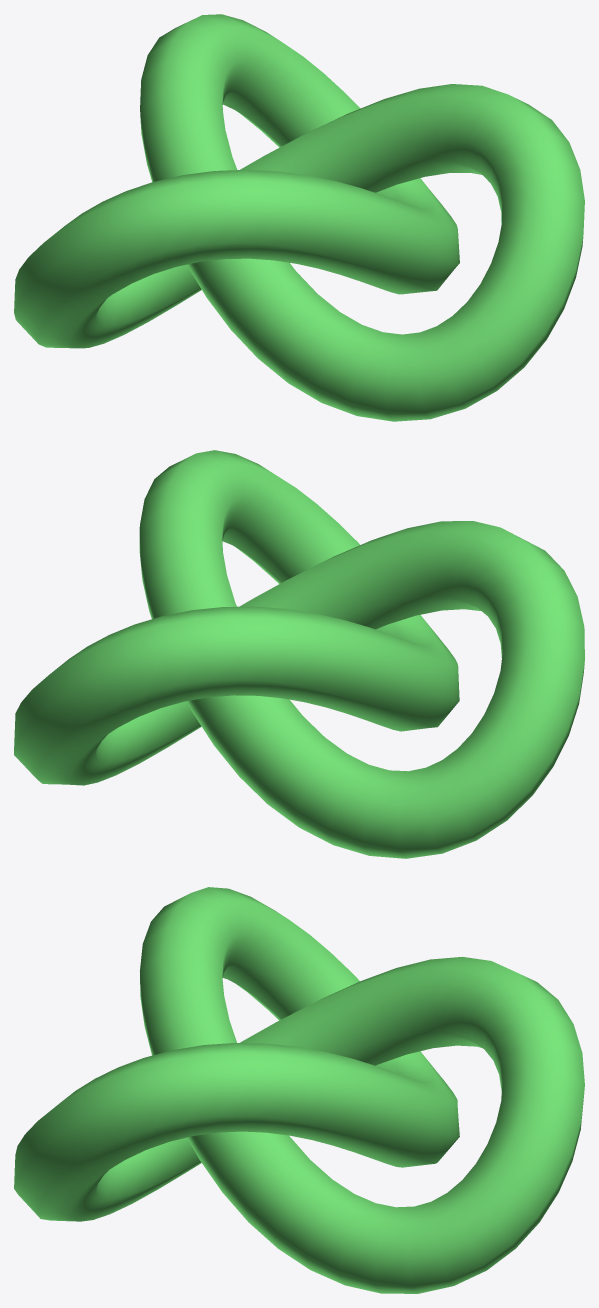
The model's file is TorusKnot.gltf.
3 renders of one model, top to bottom at view 1: azimuth 30°, elevation 25°; view 2: azimuth 150°, elevation 25°; view 3: azimuth 270°, elevation 25°, orthographic.
Parts seen in each view (by area): view 1: TorusKnot; view 2: TorusKnot; view 3: TorusKnot.
Boxes of the visible parts, <box> form: TorusKnot: <box>14,14,584,421</box>; TorusKnot: <box>14,450,584,858</box>; TorusKnot: <box>14,887,584,1293</box>.
Bounding box in the file's own units: 6.04 × 2.96 × 6.41.
